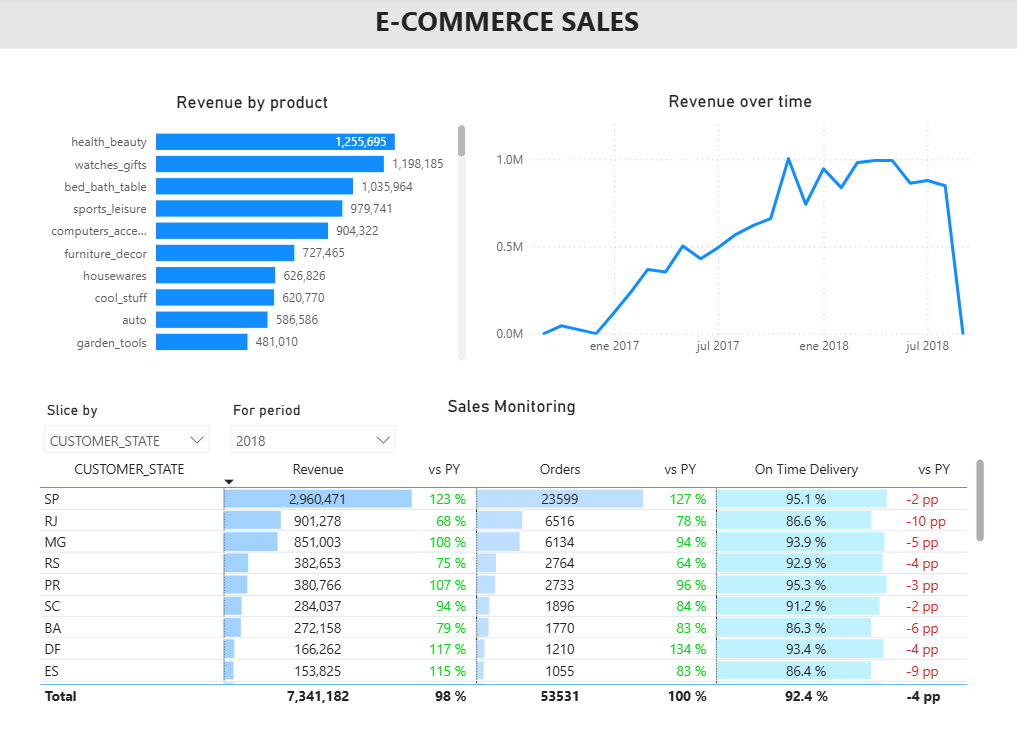

Layout of this report page (visuals, bound fields, positions):
{"tool":"powerbi","page":{"name":"Overview","canvas":[1000,720],"ordinal":0},"visuals":[{"type":"clusteredBarChart","title":"Revenue by product","fields":{"Category":["DIM_PRODUCTS.PRODUCT_CATEGORY_NAME"],"Y":["Measures_.Revenue"]},"box":[36.7,92.9,428,267.8],"z":0},{"type":"lineChart","title":"Revenue over time","fields":{"Y":["Measures_.Revenue"],"Category":["Calendar.Date.Variation.Date Hierarchy.Year","Calendar.Date.Variation.Date Hierarchy.Quarter","Calendar.Date.Variation.Date Hierarchy.Month"]},"box":[484.2,91.7,487.9,267.8],"z":1000},{"type":"tableEx","title":"Sales Monitoring","fields":{"Values":["DIM_CUSTOMERS.CUSTOMER_STATE","Measures_.Revenue","Measures_.Revenue YoY","Measures_.Orders","Measures_.Orders YoY","Measures_.On Time Delivery","Measures_.On Time Delivery YoY"]},"box":[36.7,390.1,935.5,306.9],"z":1001},{"type":"slicer","fields":{"Values":["Dynamic_Dimension.Dynamic_Dimension"]},"box":[36.7,390.1,182.2,56.3],"z":1002},{"type":"textbox","box":[0,0,1000.3,50.1],"z":1003},{"type":"slicer","fields":{"Values":["Calendar.Year"]},"box":[218.9,390.1,182.2,56.3],"z":1004}]}

Visuals, with their boxes in screenshot pixels (x1, y1, x2, y2), scaled from the page's 1000x720 canvas onto the 1017x730 screenshot:
"Revenue by product" clusteredBarChart: left=37, top=94, right=473, bottom=366
"Revenue over time" lineChart: left=492, top=93, right=989, bottom=364
"Sales Monitoring" tableEx: left=37, top=396, right=989, bottom=707
slicer - Dynamic_Dimension.Dynamic_Dimension: left=37, top=396, right=223, bottom=453
textbox: left=0, top=0, right=1016, bottom=51
slicer - Calendar.Year: left=223, top=396, right=408, bottom=453
